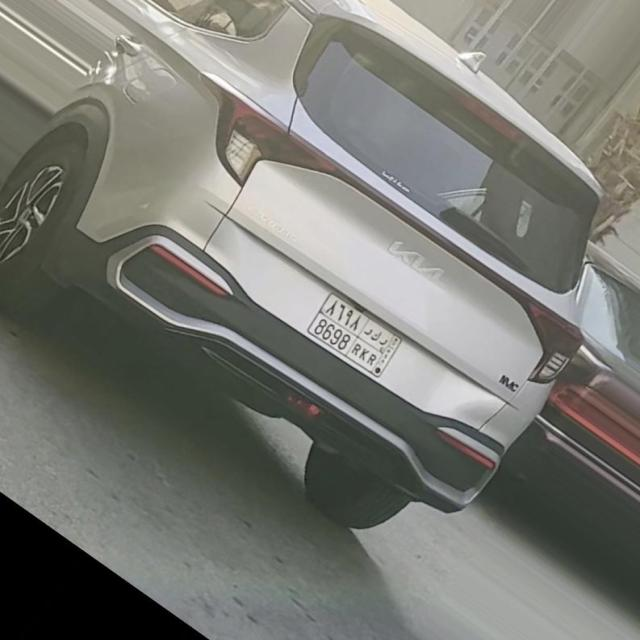Car-plate: (294, 279, 415, 385)
